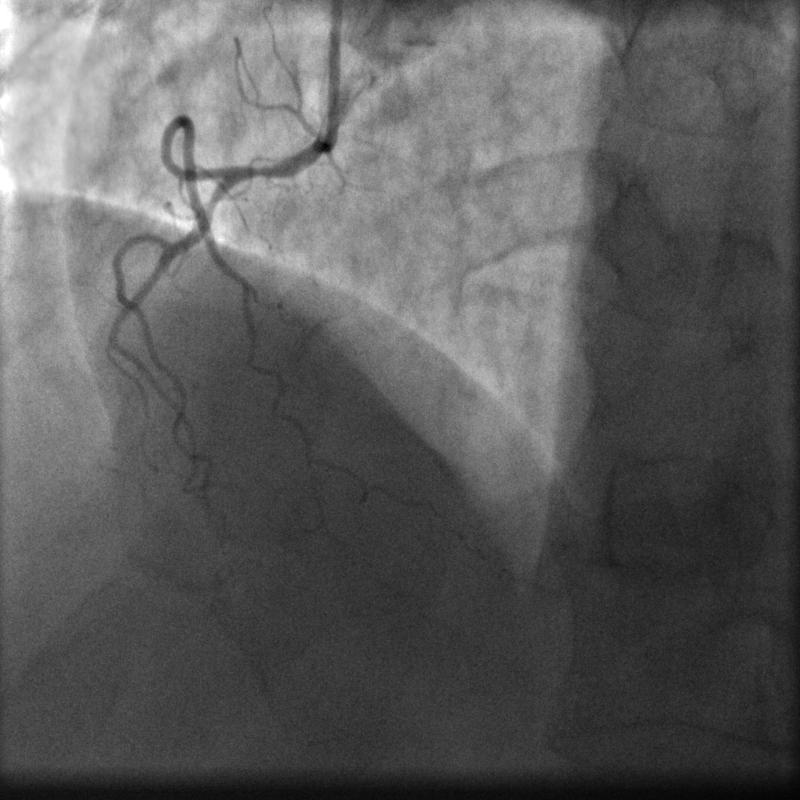Stenosis: (235, 153, 283, 188)
